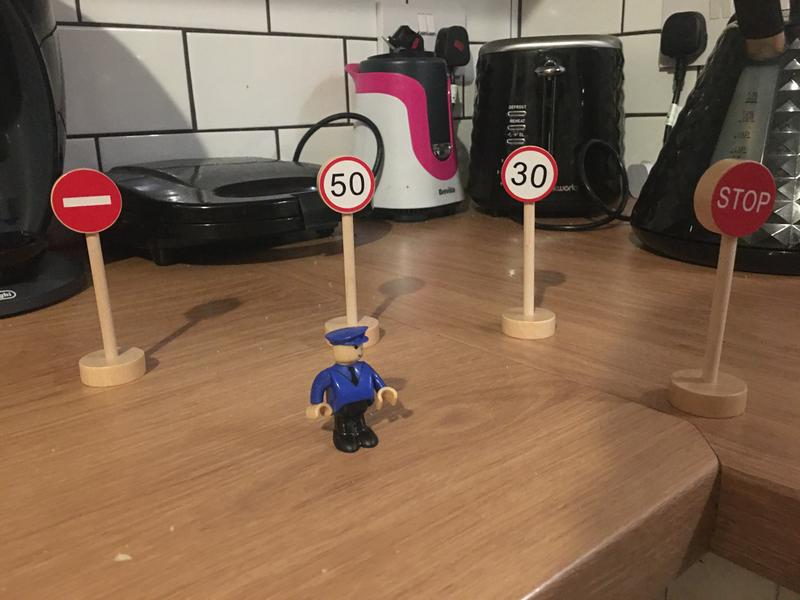Traffic_Sign_30: (502, 145, 556, 203)
Traffic_Sign_50: (317, 156, 374, 212)
Traffic_Sign_No_Entry: (51, 168, 122, 231)
Traffic_Sign_Stop: (712, 162, 775, 235)
person: (305, 326, 399, 455)
